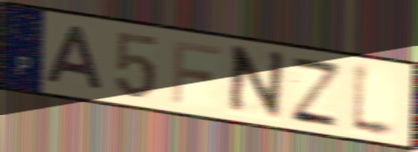5: (113, 28, 161, 101)
A: (44, 24, 107, 94)
F: (169, 37, 224, 106)
L: (348, 59, 400, 144)
N: (225, 43, 287, 122)
Z: (288, 54, 346, 131)
